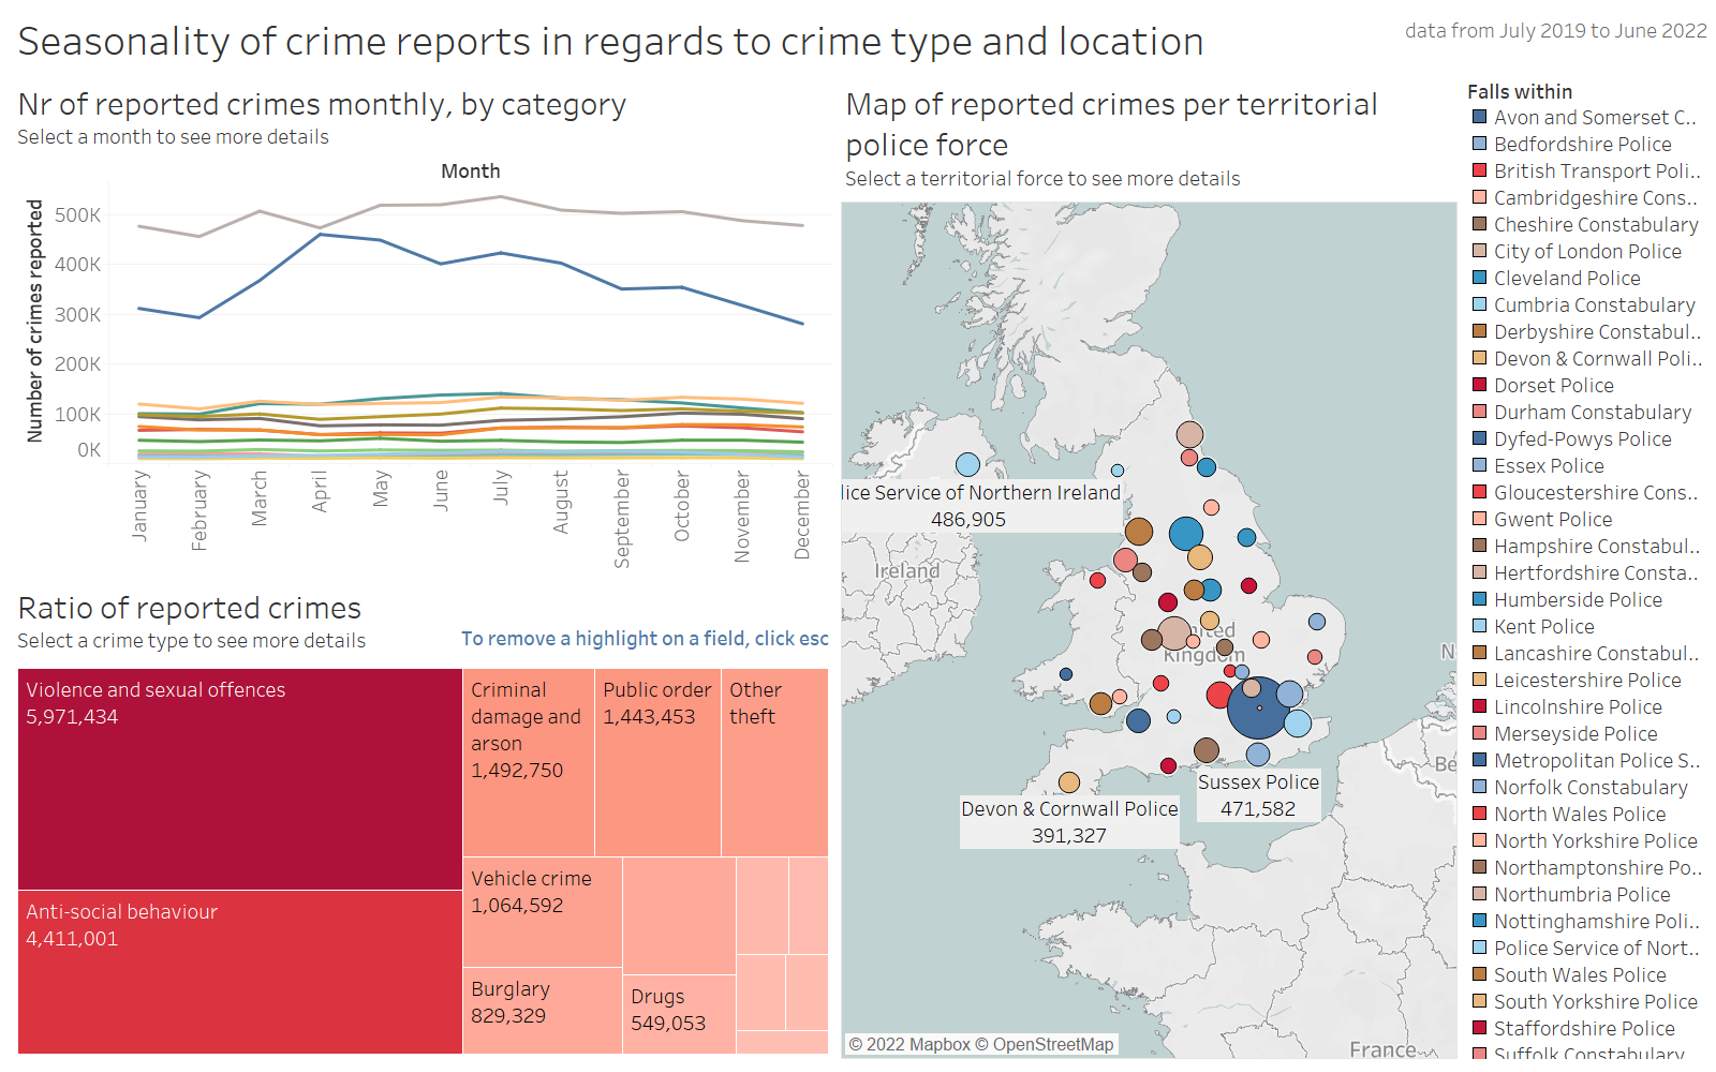

Layout of this report page (visuals, bound fields, positions):
{"tool":"tableau","page":{"name":"Seasonality of crime reports in regards to crime type and location","canvas":[1600,1000],"ordinal":3},"visuals":[{"type":"title","box":[8,8,1584,58]},{"type":"text","box":[1306,13,291,30]},{"type":"worksheet","title":"Nr of reported crimes monthly, by category","mark":"Automatic","rows":["Fill number"],"cols":["Month"],"box":[8,66,772,470]},{"type":"worksheet","title":"Map of reported crimes per territorial police force","mark":"Circle","rows":["Latitude"],"cols":["Longitude"],"box":[780,66,583,926]},{"type":"legend","title":"Map of reported crimes per territorial police force","param":"[federated.10l3fp90vdy31r19o3p2i0rp7us6].[none:Falls within:nk]","box":[1363,66,229,926]},{"type":"worksheet","title":"Ratio of reported crimes","mark":"Automatic","box":[8,536,772,456]},{"type":"text","box":[426,572,409,46]}]}

Visuals, with their boxes in screenshot pixels (x1, y1, x2, y2), scaled from the page's 1600x1000 canvas onto the 1716x1072 screenshot:
title: [x1=9, y1=9, x2=1707, y2=71]
text: [x1=1401, y1=14, x2=1713, y2=46]
"Nr of reported crimes monthly, by category" worksheet: [x1=9, y1=71, x2=837, y2=575]
"Map of reported crimes per territorial police force" worksheet (Circle marks): [x1=837, y1=71, x2=1462, y2=1063]
"Map of reported crimes per territorial police force" legend: [x1=1462, y1=71, x2=1707, y2=1063]
"Ratio of reported crimes" worksheet: [x1=9, y1=575, x2=837, y2=1063]
text: [x1=457, y1=613, x2=896, y2=662]
